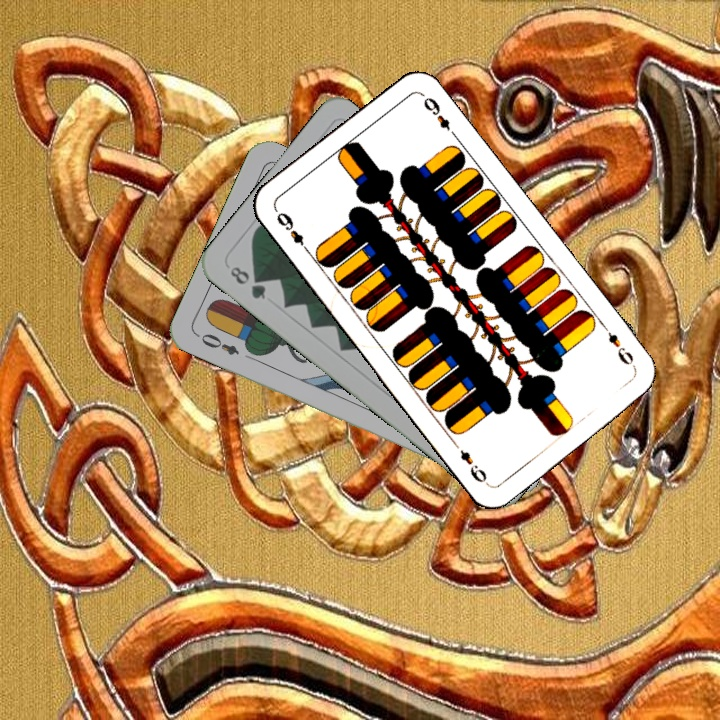E9: (271, 206, 313, 256), (598, 320, 639, 371)
EO: (192, 329, 242, 358)
G8: (225, 262, 269, 302)
